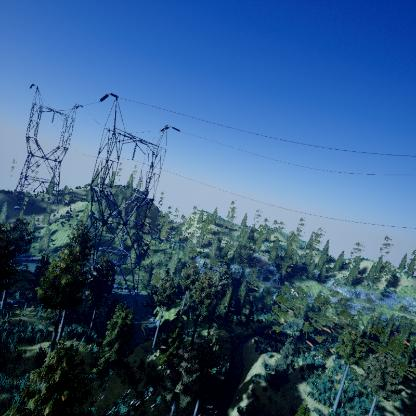tower: (79, 91, 186, 299), (16, 80, 85, 205)
